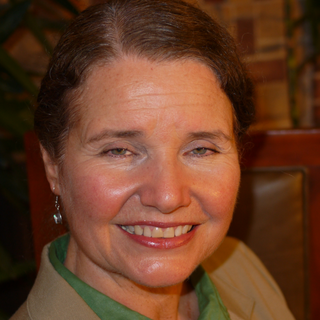eye: (179, 134, 222, 166), (93, 140, 141, 164)
